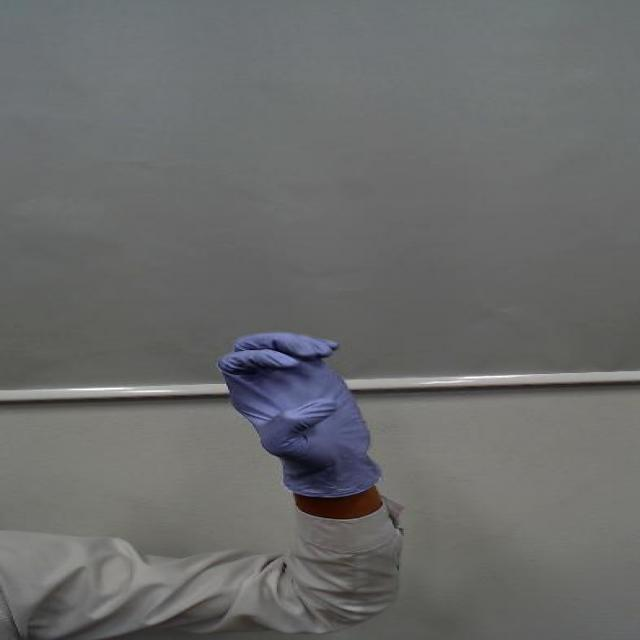Glove: (210, 320, 412, 500)
